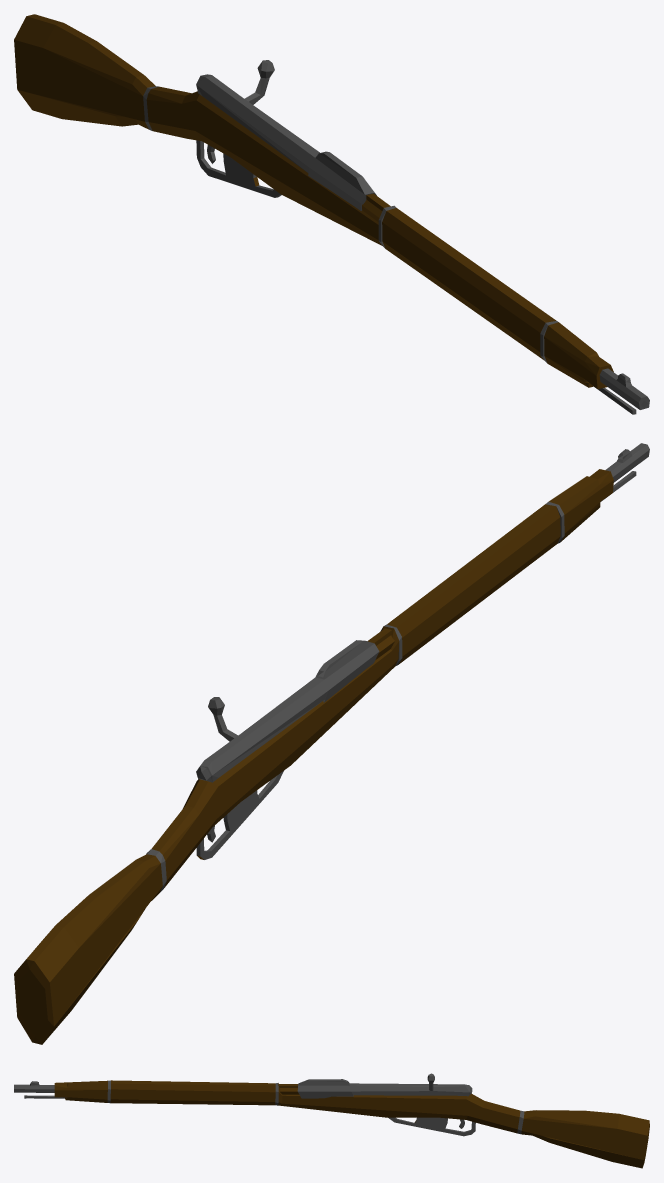
The model's file is Lvl1_RS_Gun_Model.fbx.
The picture shows the model from 3 angles, top to bottom: view 1: azimuth 30°, elevation 25°; view 2: azimuth 150°, elevation 25°; view 3: azimuth 270°, elevation 25°; orthographic projection. The views are drawn at different scales.
Visible parts, largest first — view 1: Circle; view 2: Circle; view 3: Circle.
Boxes of the visible parts, left/top/right/bottom form: Circle: left=14, top=14, right=649, bottom=414; Circle: left=14, top=443, right=649, bottom=1044; Circle: left=14, top=1073, right=649, bottom=1168.
Size of the model in its own units: 8.76 by 32.6 by 190.
